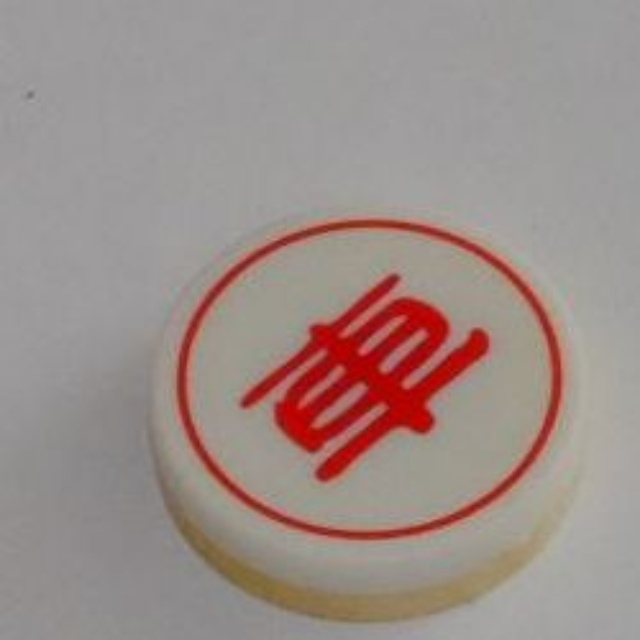red_xe: (123, 190, 612, 621)
